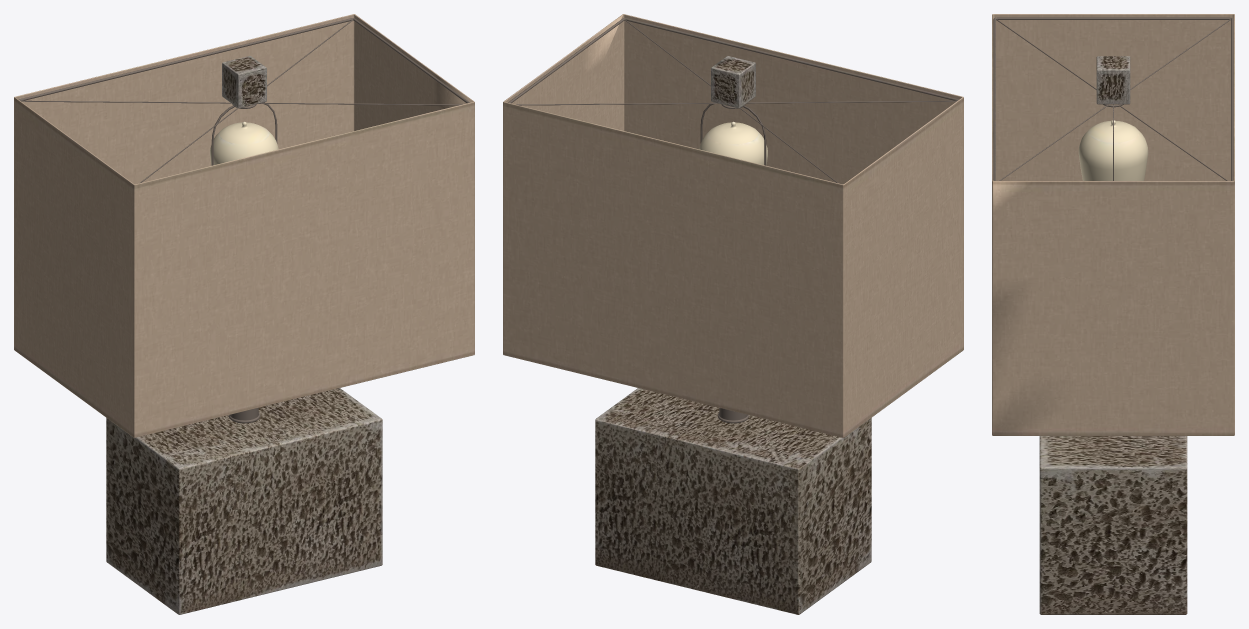
3 renders of one model, left to right at view 1: azimuth 30°, elevation 25°; view 2: azimuth 150°, elevation 25°; view 3: azimuth 270°, elevation 25°, orthographic.
Parts seen in each view (by area): view 1: RootNode; view 2: RootNode; view 3: RootNode.
Boxes of the visible parts, box(x1,y1,x2,y2) form: RootNode: box(14, 14, 474, 614); RootNode: box(503, 14, 963, 614); RootNode: box(992, 14, 1234, 614).
Size of the model in its own units: 0.2939 by 0.411 by 0.18.
Materials: 1 (1 with a texture image).
